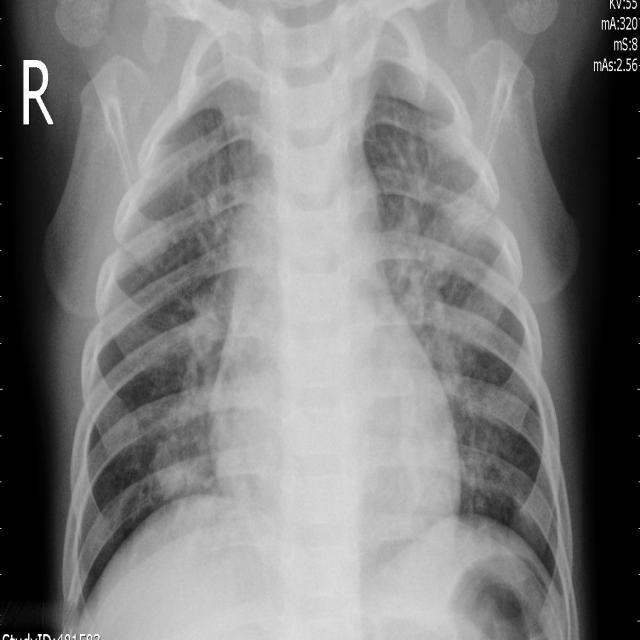low-pneumonia: (379, 131, 512, 502), (156, 268, 234, 497)
